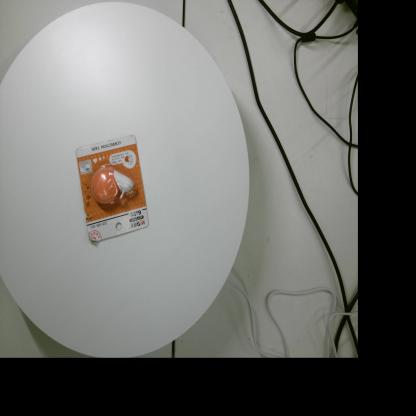Stationery: (76, 135, 149, 243)
